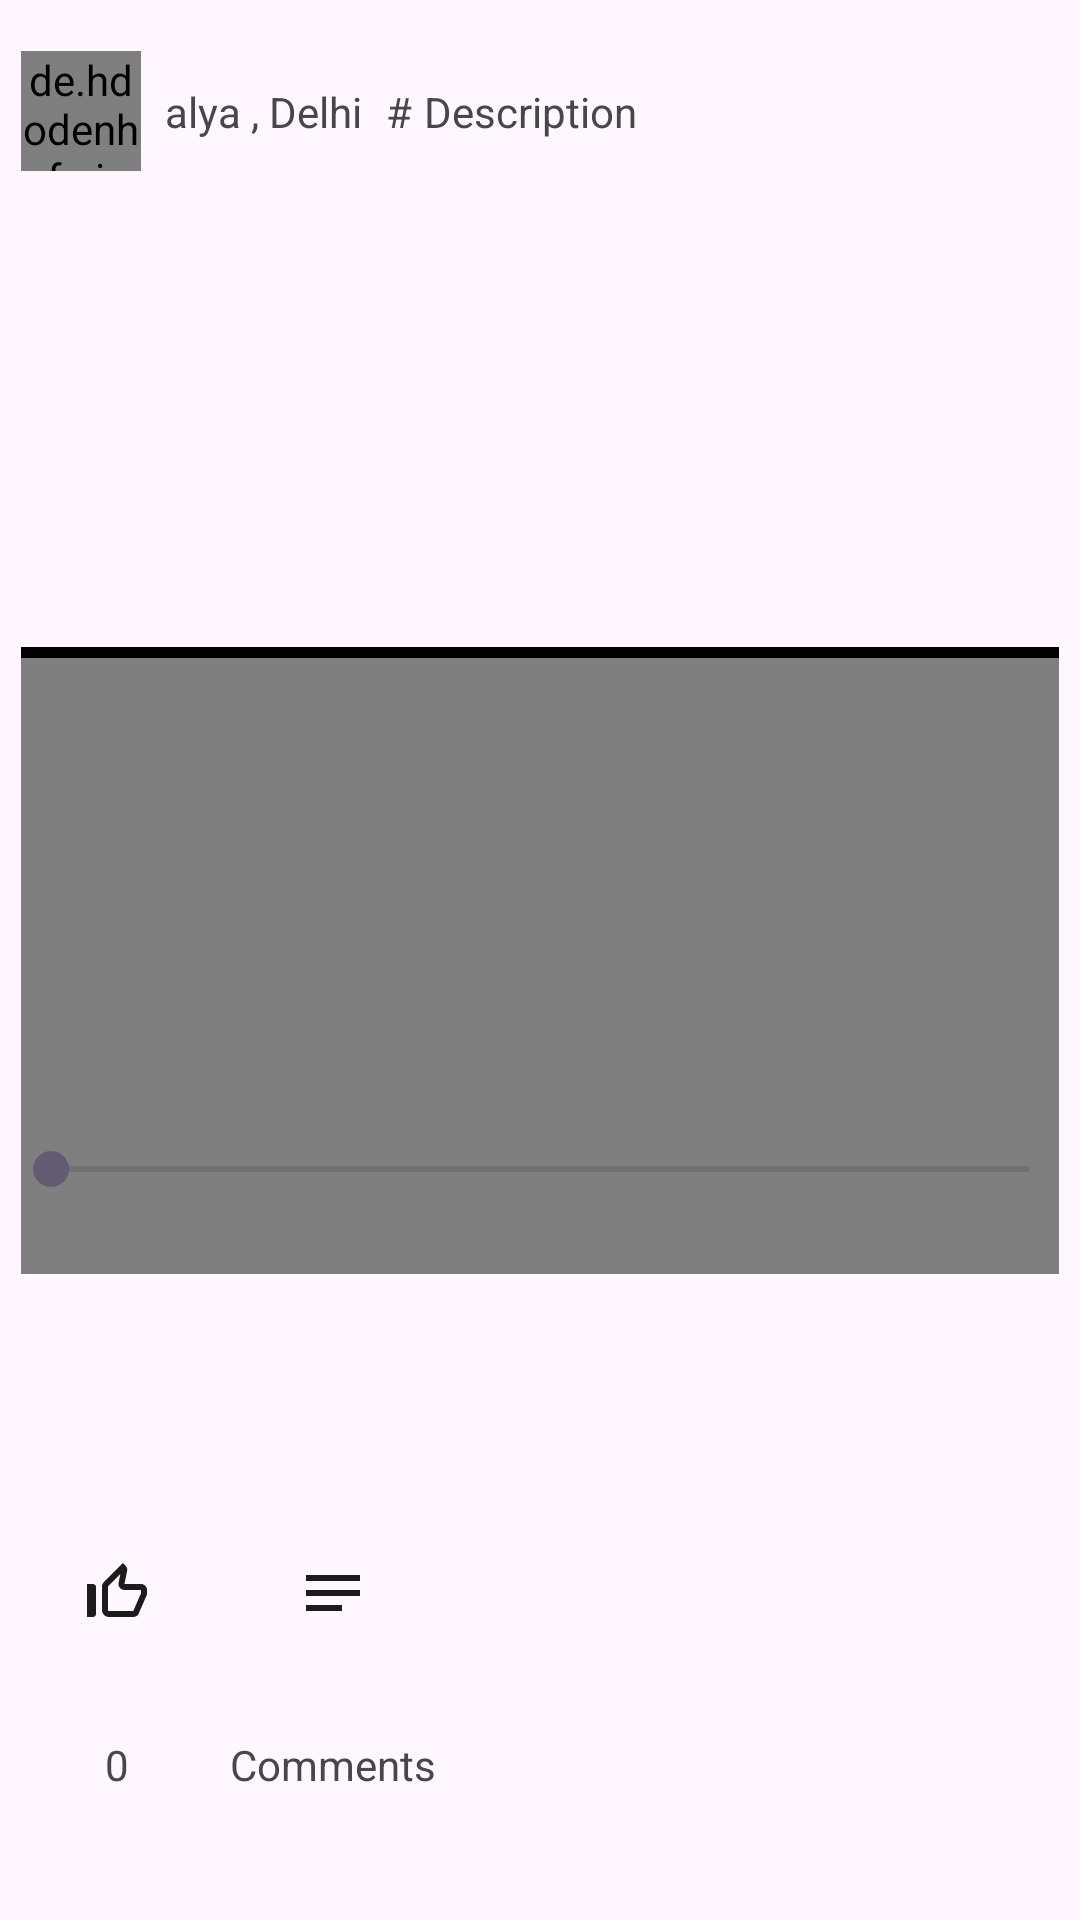

Named icons in this screenshot (1080px×1920px) and their bounding boxes, (x1, y1, x2, y2):
notes: (306, 1575, 360, 1611)
thumb not like: (87, 1563, 147, 1617)
